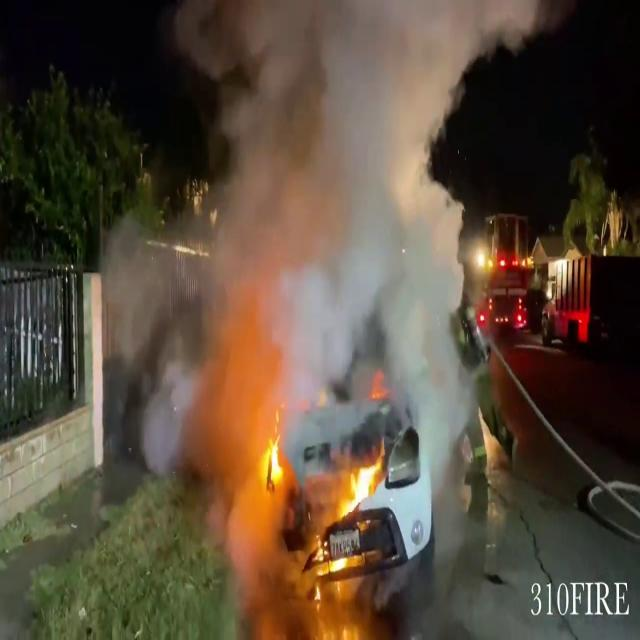Fire: (318, 447, 390, 535), (260, 422, 288, 497)
Smoke: (146, 0, 488, 428), (96, 189, 216, 474)
